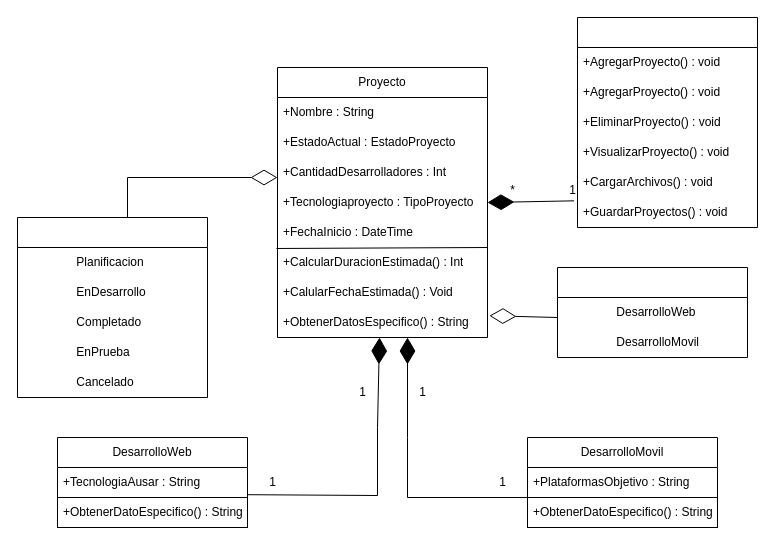
Image size: 775x545. Some labels were removed from this diagram. Here are the shapes that lost their labels. From the top down, the box of each, then its label:
(576, 16, 758, 228): SysPoyecto
(16, 216, 208, 398): <<enumeration>> EstadoProyecto
(556, 266, 748, 358): <<enumeration>> TipoProyecto
